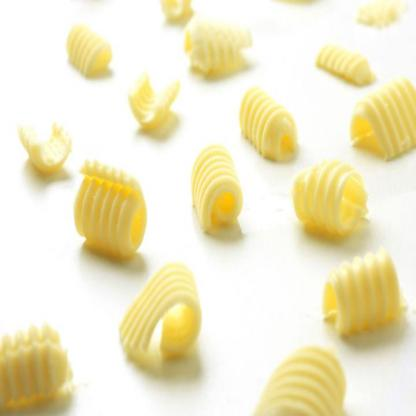butter: (120, 261, 200, 365), (326, 247, 404, 339), (74, 164, 146, 256), (293, 157, 366, 237), (192, 144, 245, 236), (243, 87, 298, 164)
